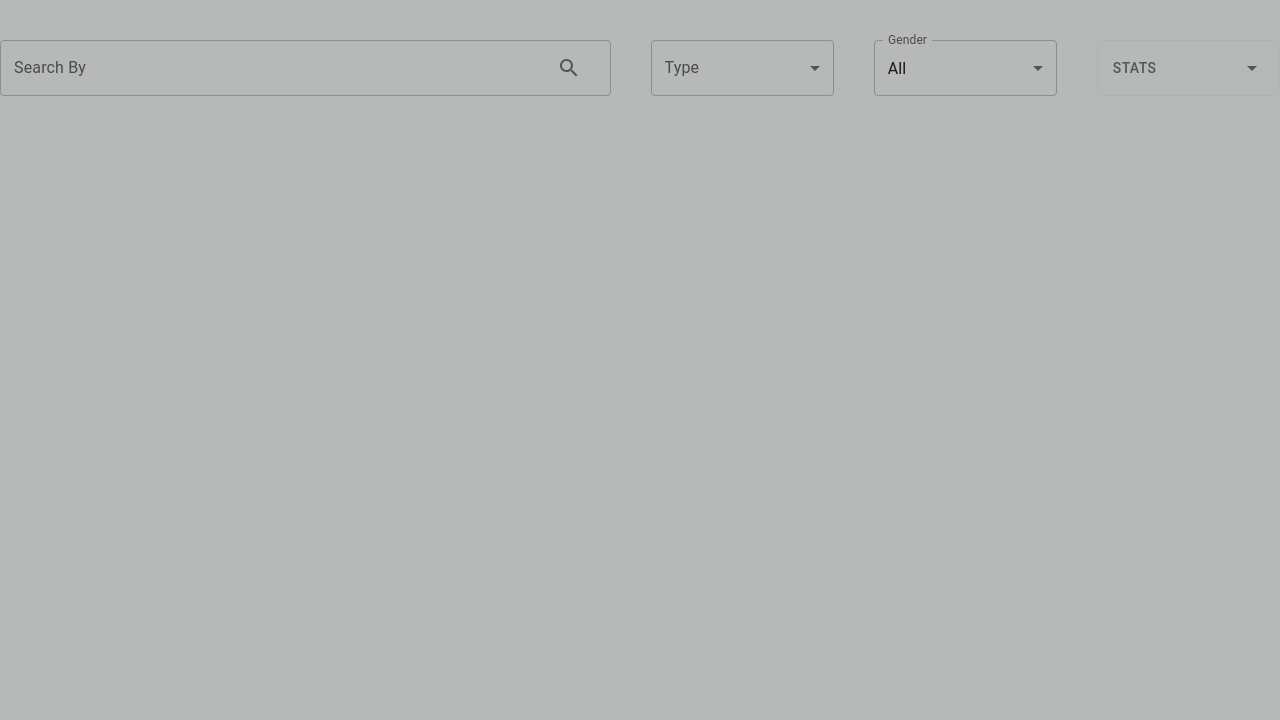
FullWidthTextField › renders select for gender with correct options
This screenshot has width=1280, height=720.
Press the mouse on the dropdown named "Gender": (897, 68) [888,58,906,78]
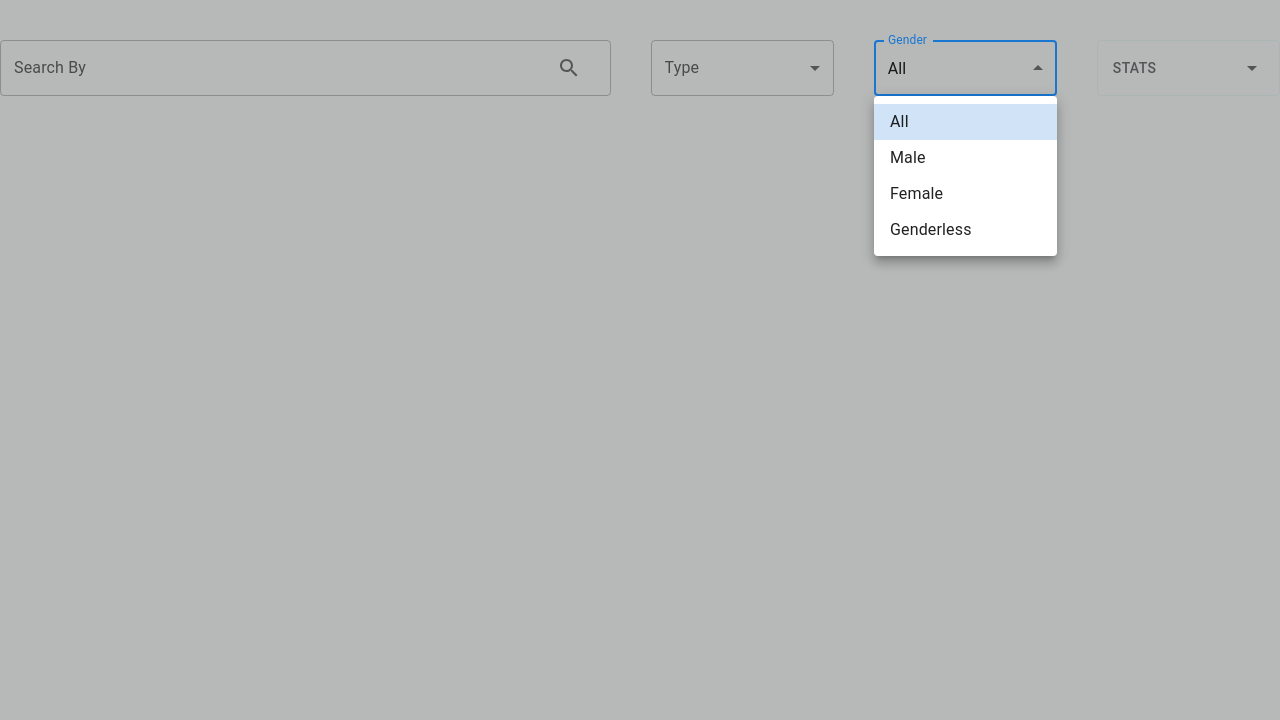
Now the option "Male" is shown, box [890,148,926,167]
Now the option "Female" is shown, box [890,184,943,203]
Now the option "Genderless" is shown, box [890,220,972,239]
